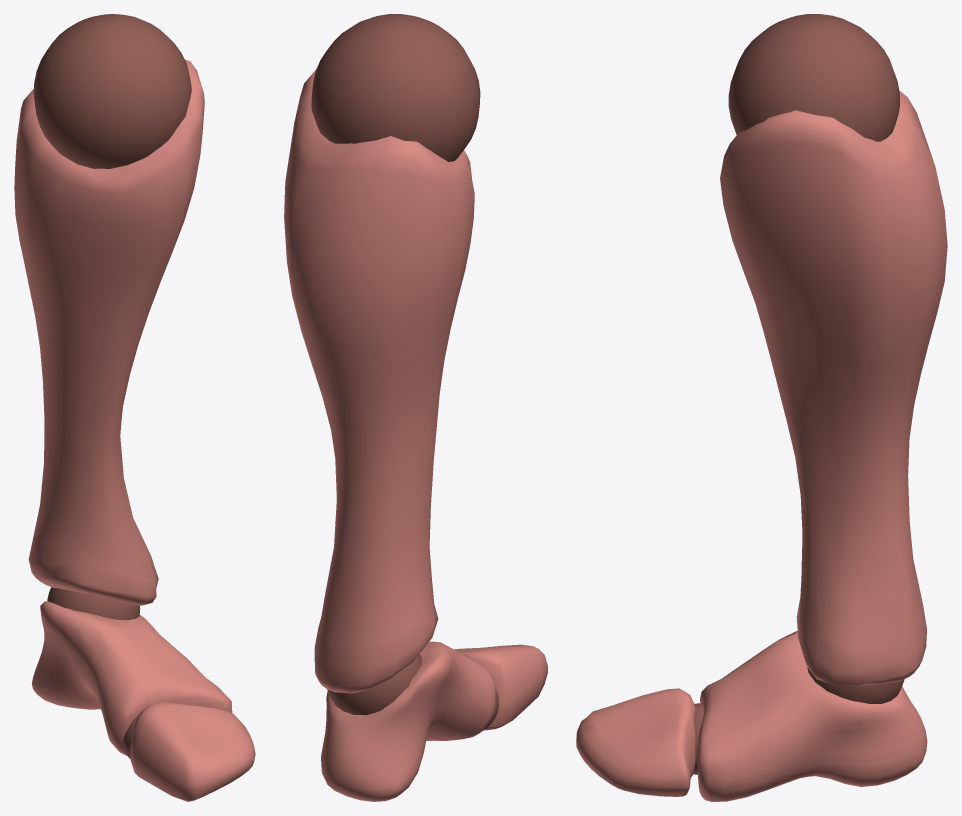
The model's file is xbotfootleft.fbx.
3 renders of one model, left to right at view 1: azimuth 30°, elevation 25°; view 2: azimuth 150°, elevation 25°; view 3: azimuth 270°, elevation 25°, orthographic. The views are drawn at different scales.
Parts seen in each view (by area): view 1: Beta_Surface, Beta_Joints; view 2: Beta_Surface, Beta_Joints; view 3: Beta_Surface, Beta_Joints.
Part boxes in pixels (x1,y1,x2,y2): Beta_Surface: (14,59,255,801); Beta_Joints: (33,14,191,758); Beta_Surface: (284,69,547,801); Beta_Joints: (311,14,498,731); Beta_Surface: (576,90,947,801); Beta_Joints: (693,14,904,774).
Size of the model in its own units: 13.63 by 59.37 by 26.42.
